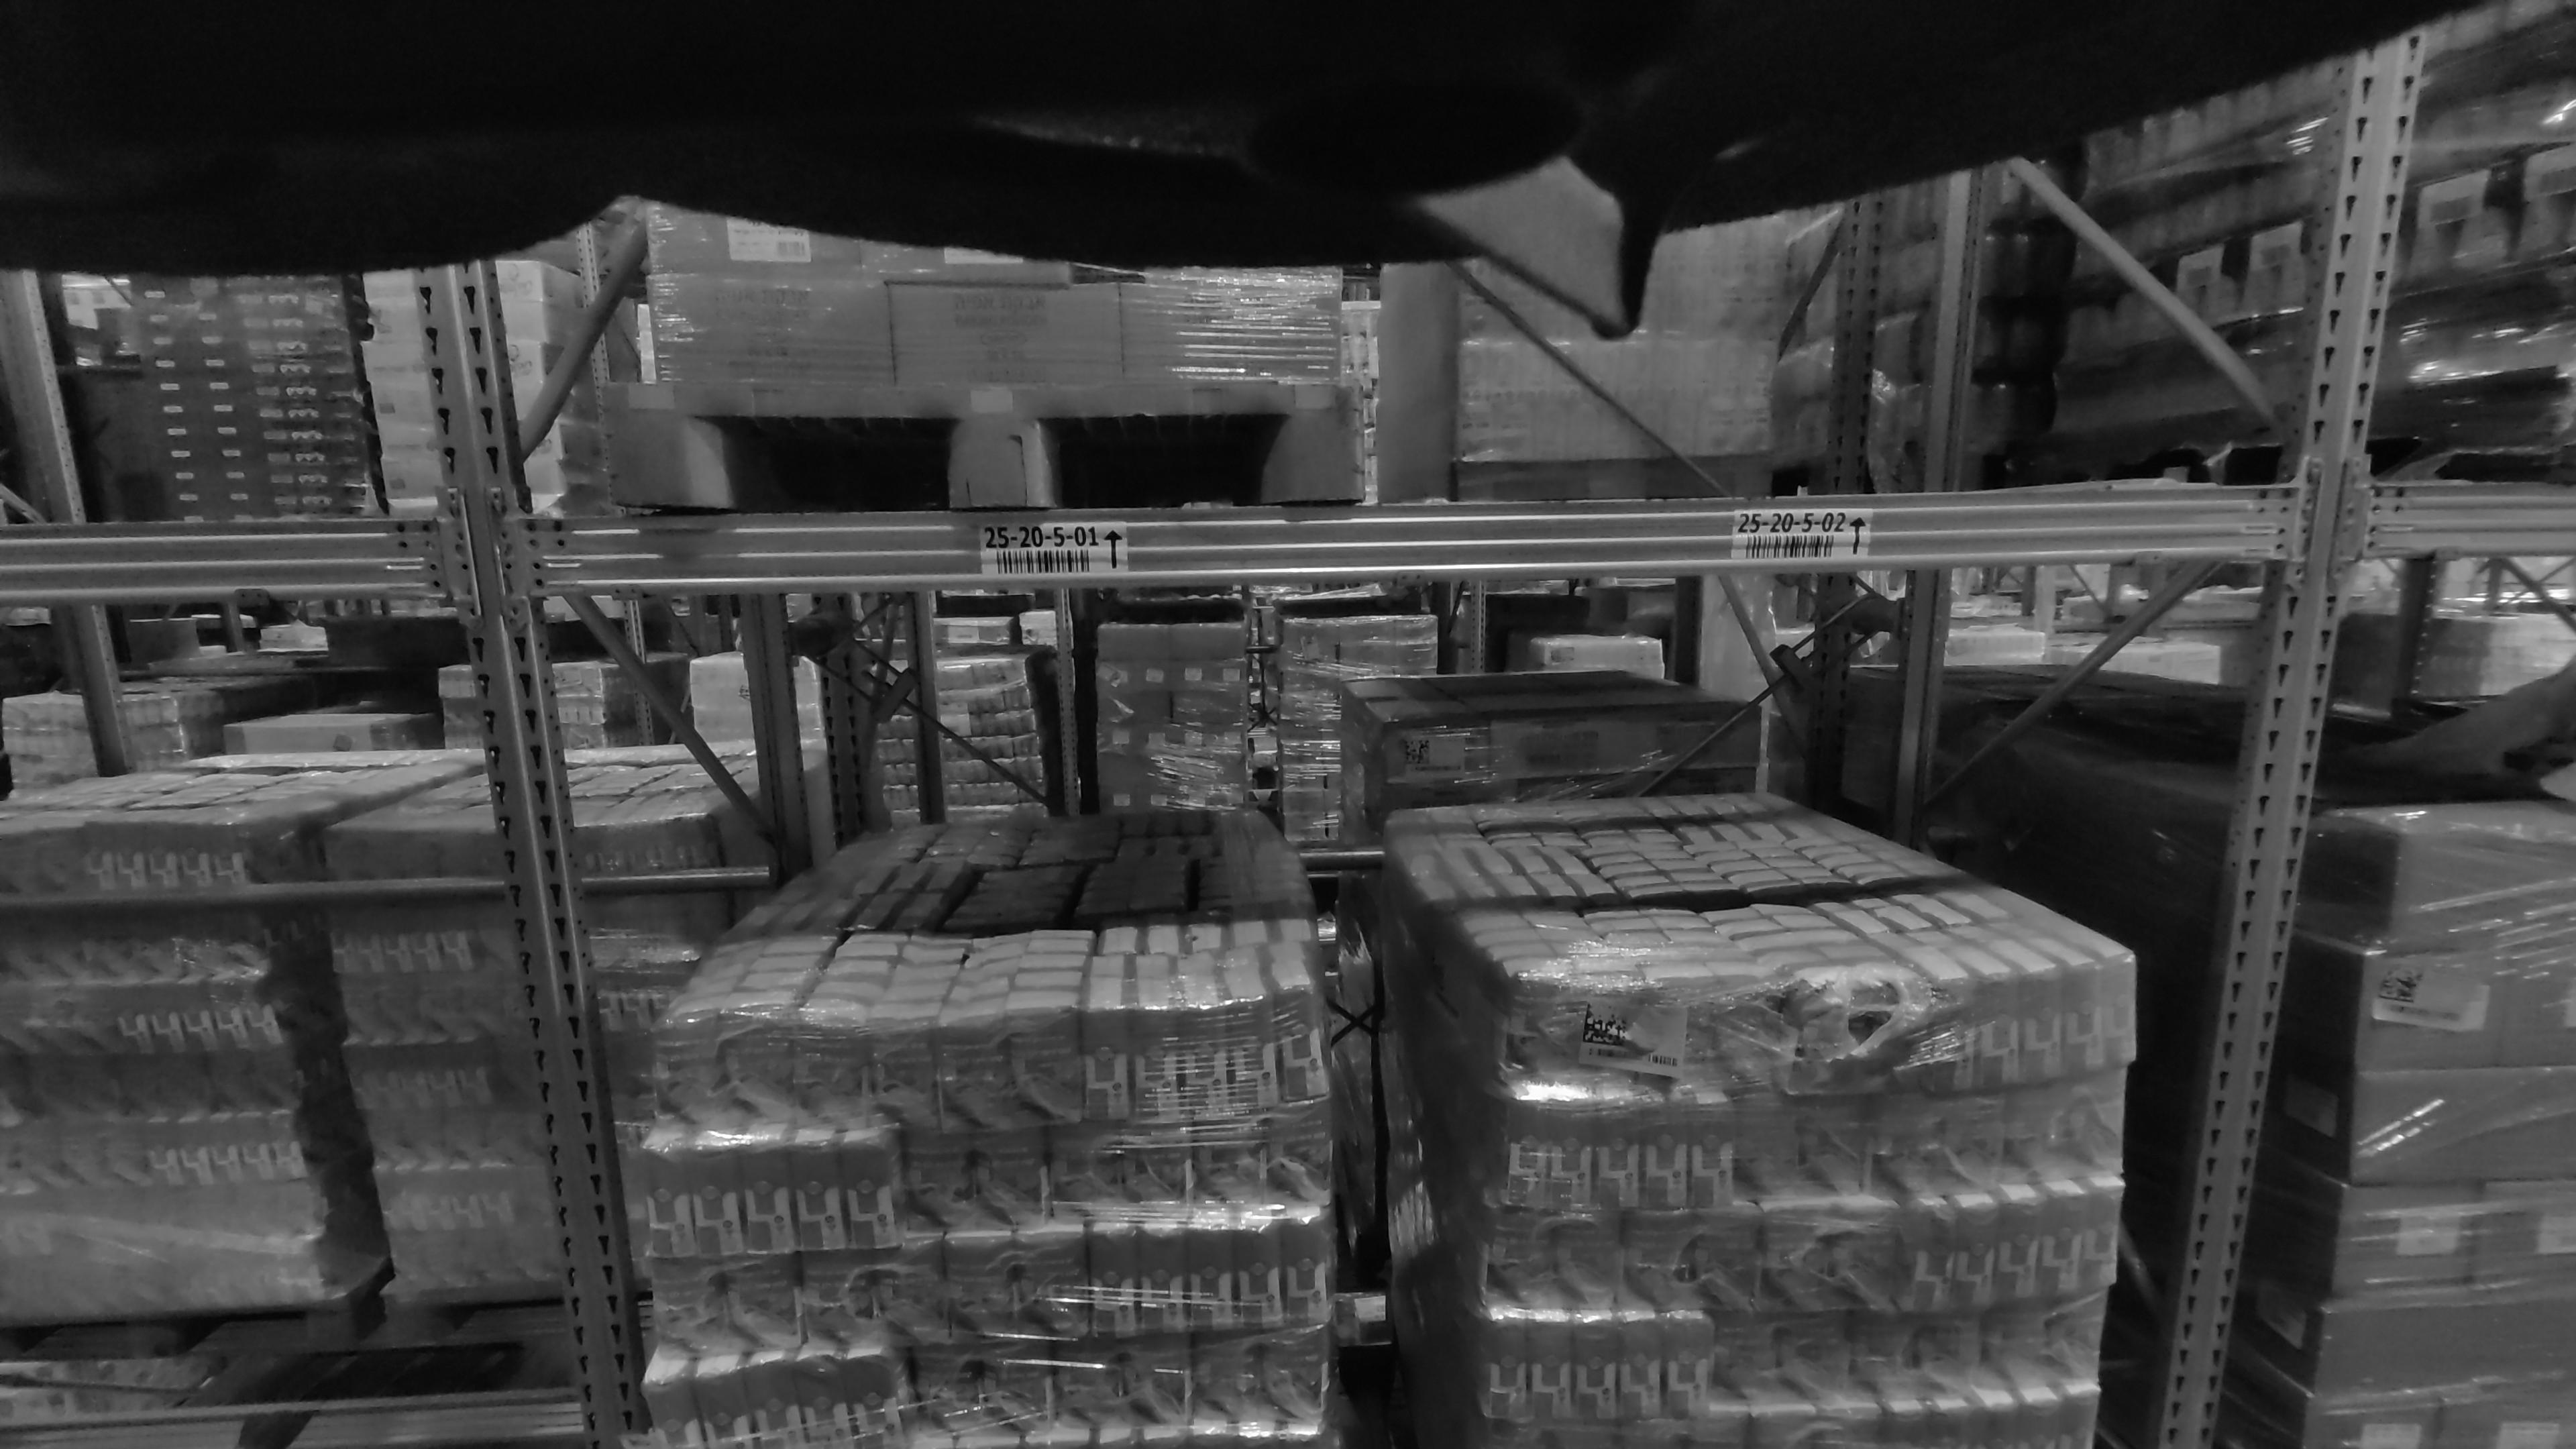empty-shelf: (23, 625, 508, 1449), (1417, 124, 2212, 485)
